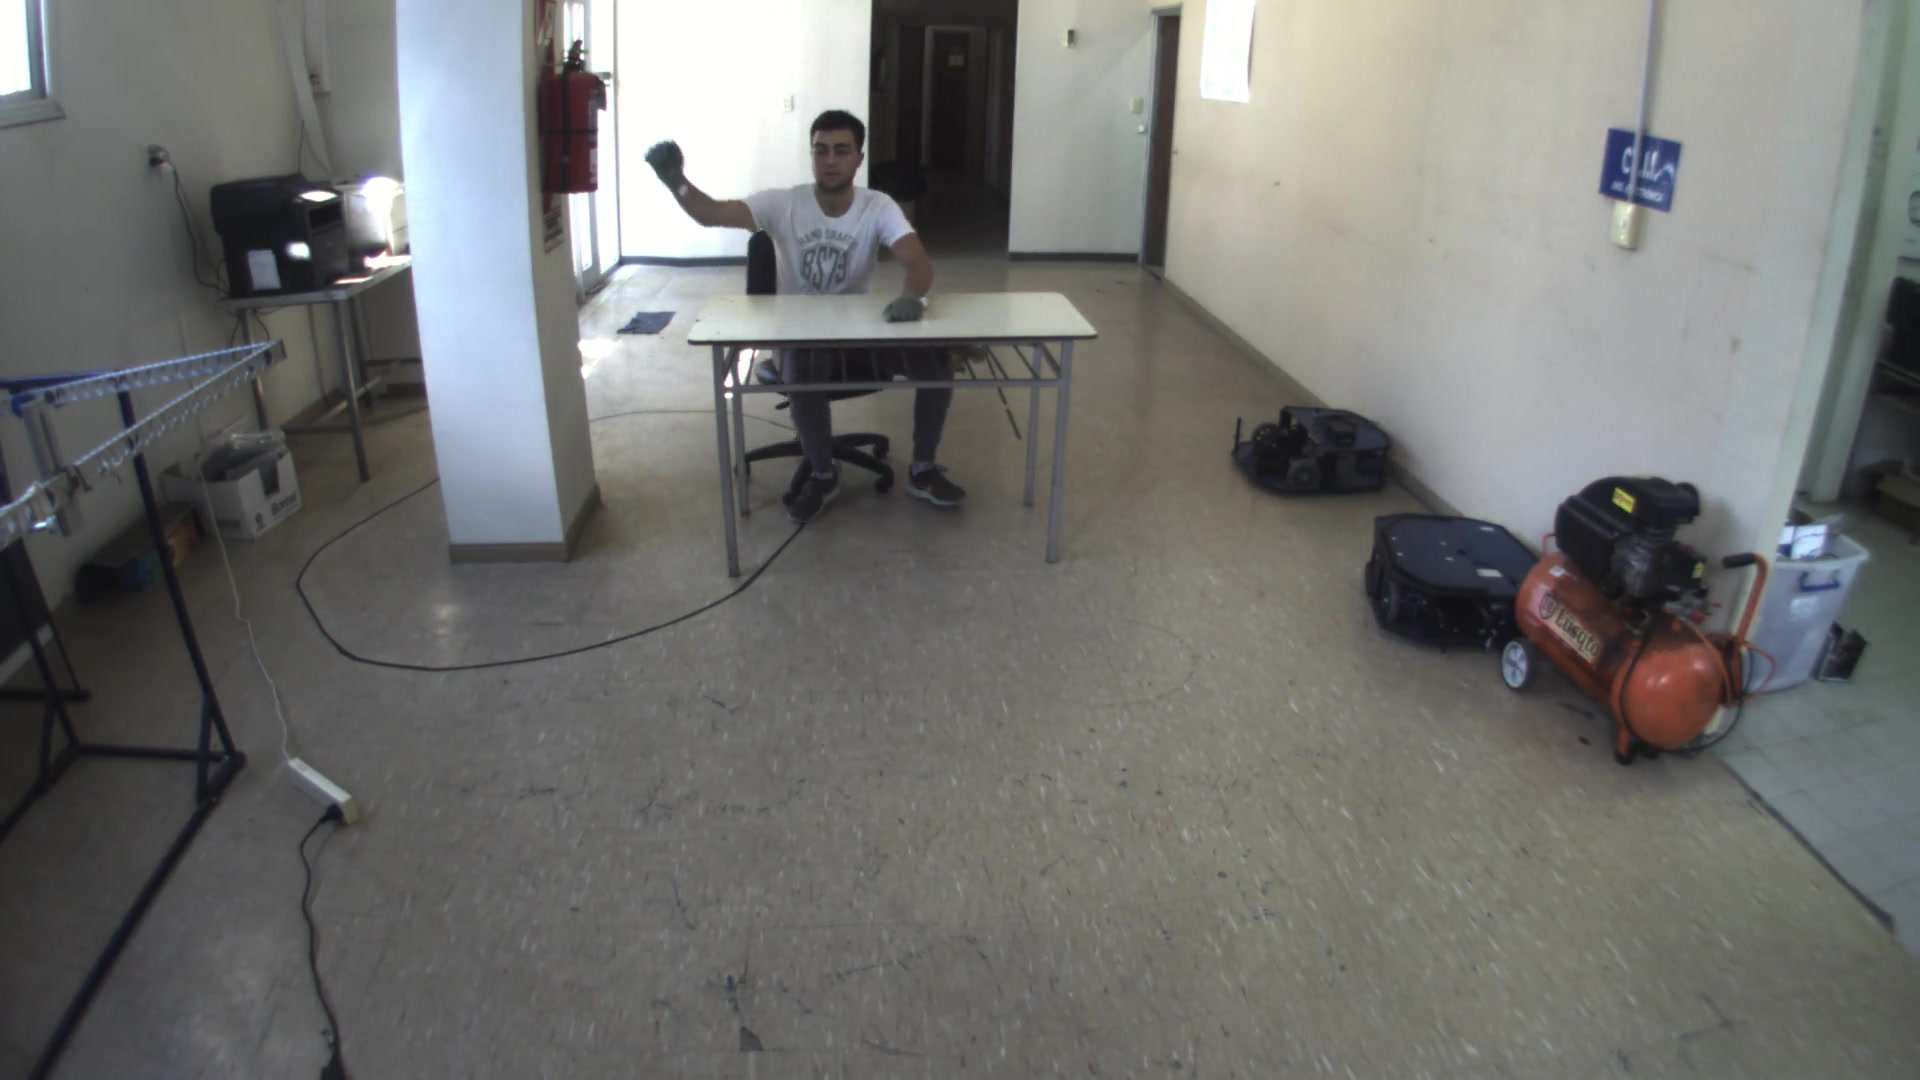hand: (638, 128, 686, 190), (876, 294, 935, 330)
